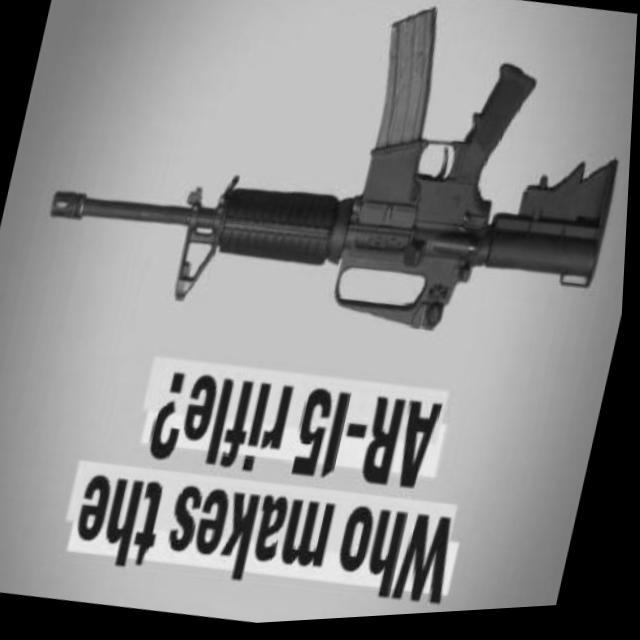weapon: (29, 0, 640, 381)
